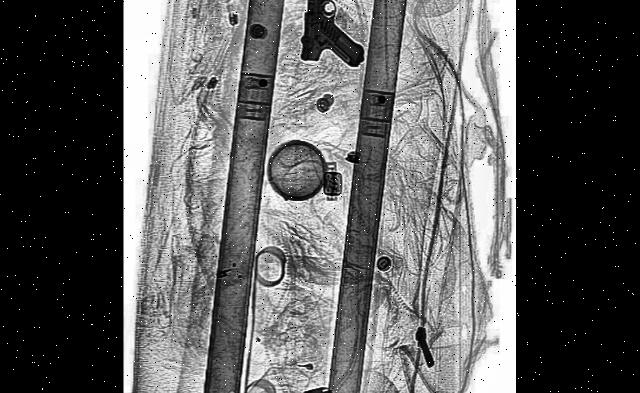Gun: (298, 0, 373, 79)
